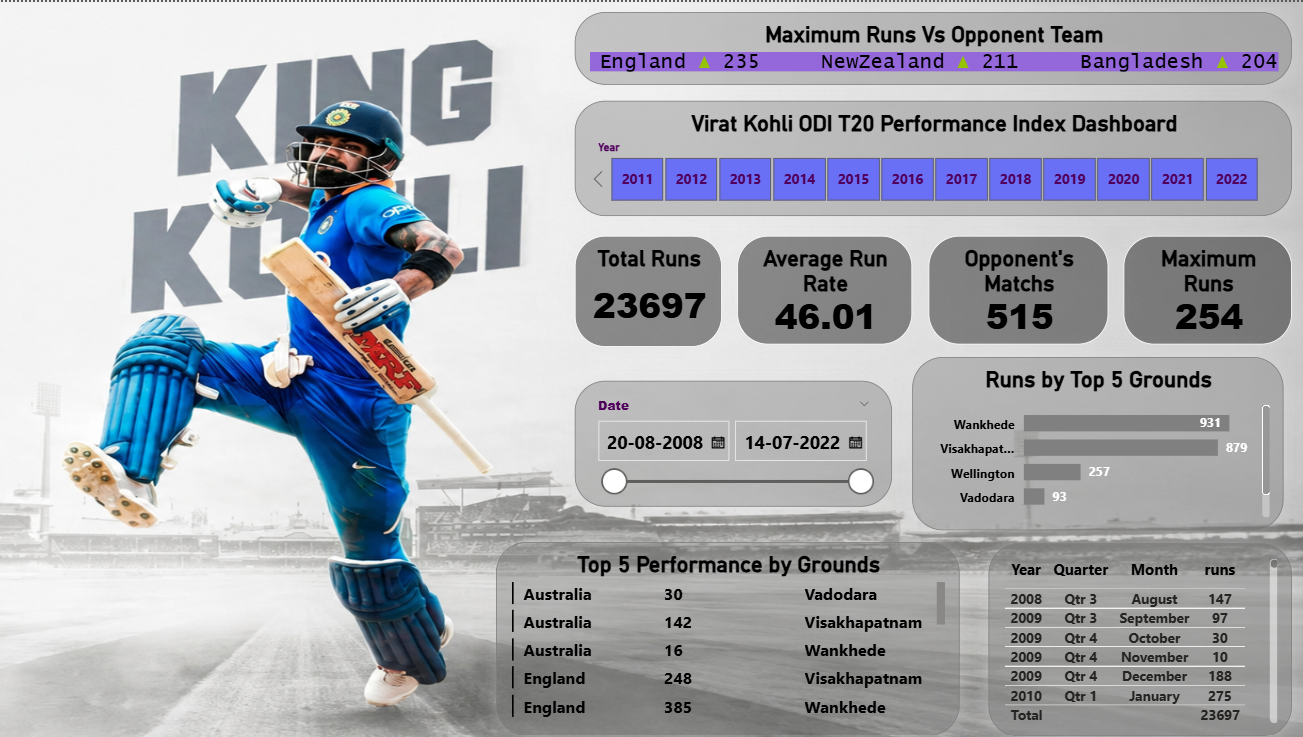

The dashboard page shown, as its layout file describes it:
{"tool":"powerbi","page":{"name":"Virat Kohli","canvas":[1280,720],"ordinal":0},"visuals":[{"type":"multiRowCard","title":"Top 5 Performance by Grounds ","fields":{"Values":["Kohli ODI T20 Stats.opponent","Sum(Kohli ODI T20 Stats.runs)","Kohli ODI T20 Stats.ground"]},"box":[489.1,528.3,453.7,189.5],"z":0},{"type":"slicer","title":"Virat Kohli ODI T20 Performance Index Dashboard","fields":{"Values":["Kohli ODI T20 Stats.date.Variation.Date Hierarchy.Year"]},"box":[566.2,96.6,701.9,112.5],"z":1000},{"type":"card","title":"Total Runs","fields":{"Values":["Sum(Kohli ODI T20 Stats.runs)"]},"box":[566.2,228.7,144.3,108.8],"z":2000},{"type":"card","title":"Maximum Runs","fields":{"Values":["Max(Kohli ODI T20 Stats.runs)"]},"box":[1103,228.7,165.1,106.4],"z":3000},{"type":"tableEx","fields":{"Values":["Kohli ODI T20 Stats.date.Variation.Date Hierarchy.Year","Sum(Kohli ODI T20 Stats.runs)"]},"box":[970.9,529.5,297.1,189.5],"z":4000},{"type":"card","title":"Average Run Rate","fields":{"Values":["Avg(Kohli ODI T20 Stats.runs)"]},"box":[725.1,228.7,171.2,106.4],"z":5000},{"type":"slicer","fields":{"Values":["Kohli ODI T20 Stats.date"]},"box":[566.2,370.5,310.6,123.5],"z":6000},{"type":"card","title":"Opponent''s Matchs","fields":{"Values":["CountNonNull(Kohli ODI T20 Stats.opponent)"]},"box":[912.2,228.7,176.1,106.4],"z":7000},{"type":"ScrollingTextVisual1448795304508","title":"Maximum Runs Vs Opponent Team","fields":{"Measure Deviation":["Max(Kohli ODI T20 Stats.runs)"],"Category":["Kohli ODI T20 Stats.opponent"]},"box":[566.2,9.8,701.9,70.9],"z":8000},{"type":"clusteredBarChart","title":"Runs by Top 5 Grounds ","fields":{"Category":["Kohli ODI T20 Stats.ground"],"Y":["Sum(Kohli ODI T20 Stats.runs)"]},"box":[896.3,347.3,363.2,170],"z":9000}]}

Visuals, with their boxes in screenshot pixels (x1, y1, x2, y2), scaled from the page's 1280x720 canvas onto the 1303x737 screenshot:
"Top 5 Performance by Grounds " multiRowCard: x1=498, y1=541, x2=960, y2=735
"Virat Kohli ODI T20 Performance Index Dashboard" slicer: x1=576, y1=99, x2=1291, y2=214
"Total Runs" card: x1=576, y1=234, x2=723, y2=345
"Maximum Runs" card: x1=1123, y1=234, x2=1291, y2=343
tableEx - Kohli ODI T20 Stats.date.Variation.Date Hierarchy.Year x Sum(Kohli ODI T20 Stats.runs): x1=988, y1=542, x2=1291, y2=736
"Average Run Rate" card: x1=738, y1=234, x2=912, y2=343
slicer - Kohli ODI T20 Stats.date: x1=576, y1=379, x2=893, y2=506
"Opponent''s Matchs" card: x1=929, y1=234, x2=1108, y2=343
"Maximum Runs Vs Opponent Team" ScrollingTextVisual1448795304508: x1=576, y1=10, x2=1291, y2=83
"Runs by Top 5 Grounds " clusteredBarChart: x1=912, y1=356, x2=1282, y2=530
